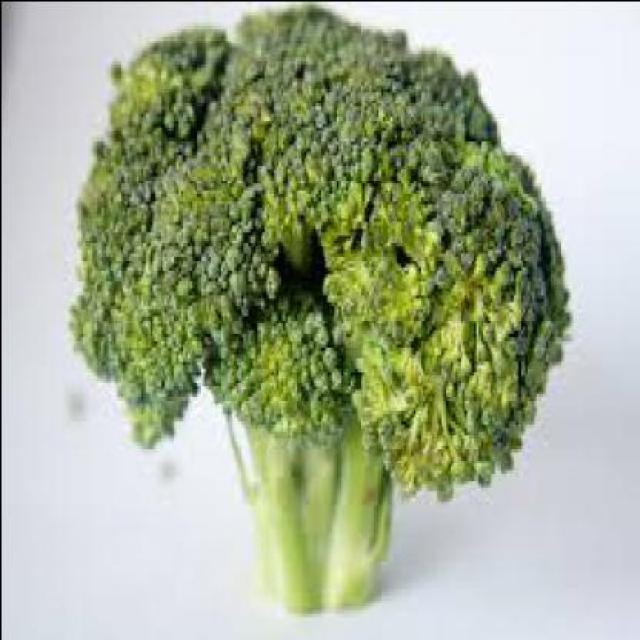BIODEGRADABLE: (66, 1, 571, 612)
